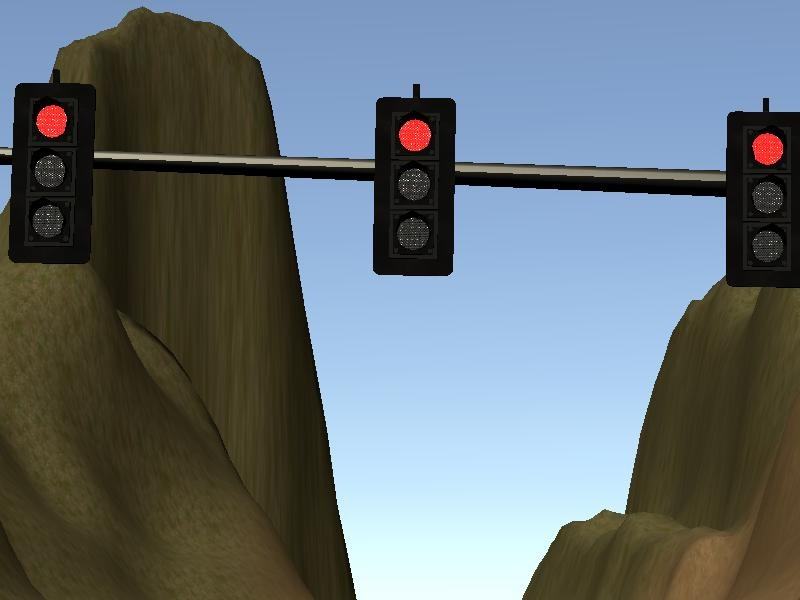red: (372, 94, 455, 277), (13, 85, 89, 265), (725, 112, 800, 288)
